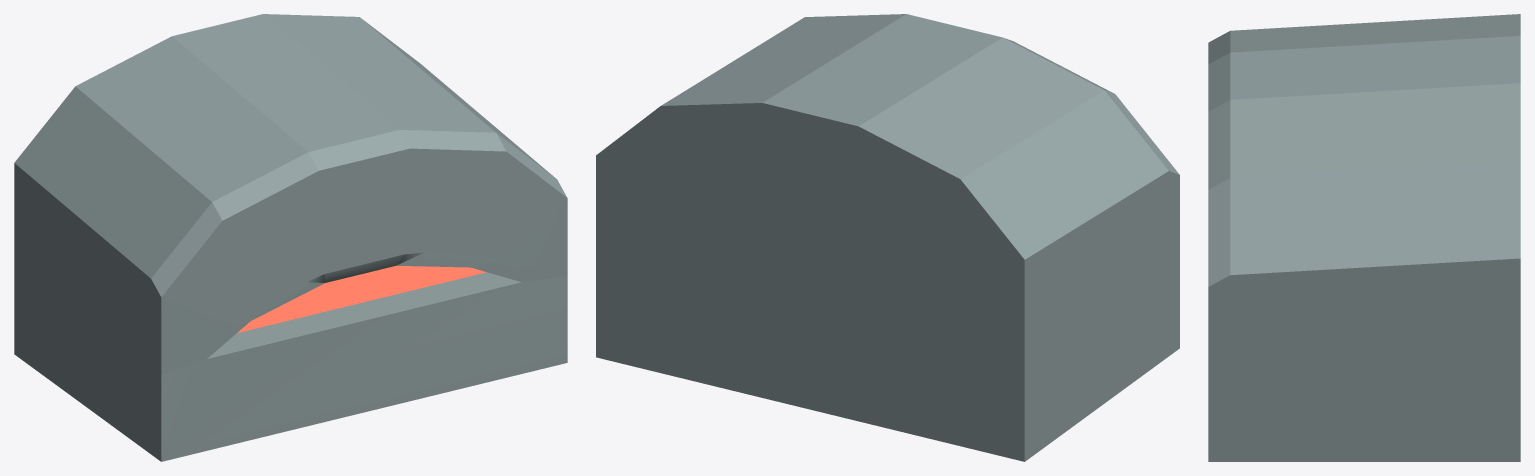
The model's file is furnace.glb.
3 views of the same model, side by side, from view 1: azimuth 30°, elevation 25°; view 2: azimuth 150°, elevation 25°; view 3: azimuth 270°, elevation 25° (orthographic). The views are drawn at different scales.
Visible parts, largest first — view 1: furnace; view 2: furnace; view 3: furnace.
Boxes of the visible parts, bbox=[...] form: furnace: bbox=[14, 14, 567, 461]; furnace: bbox=[596, 14, 1179, 461]; furnace: bbox=[1208, 14, 1520, 461].
Size of what is drawn, in the model's own units: 3 by 1.97 by 1.88.
